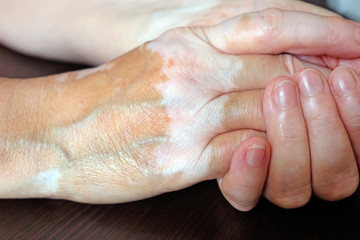vitiligo: (84, 44, 240, 183)
